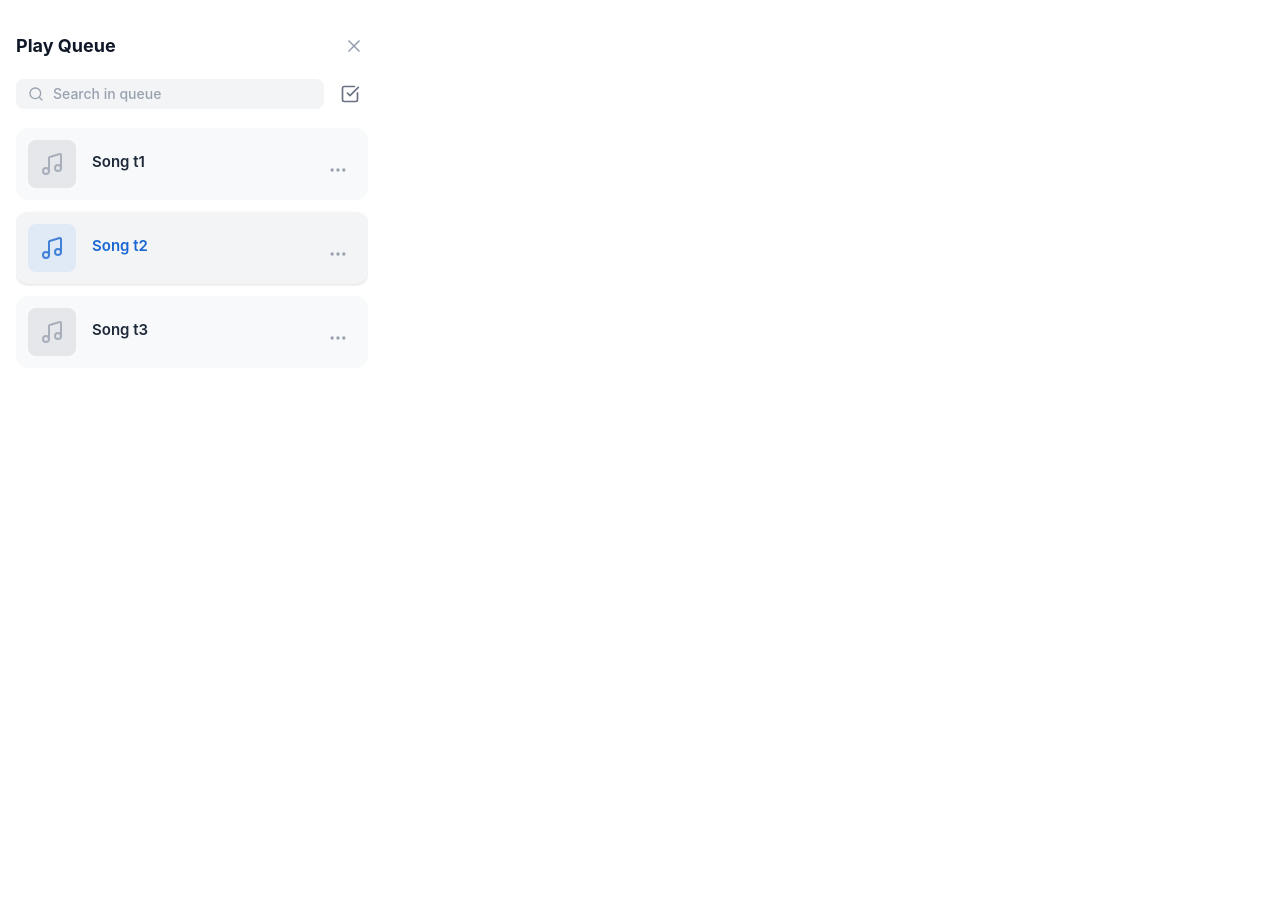
QueuePanel content › Escape khi DownloadDialog mở trên drawer → chỉ dialog đóng, drawer giữ nguyên (QP-3)
The width and height of the screenshot is (1280, 900).
Check: the text "Song t1" is shown, box [16,128,368,212]
Step 1. Click the button named "More actions" in the row of "Song t1" → (338, 170), box [320,152,356,188]
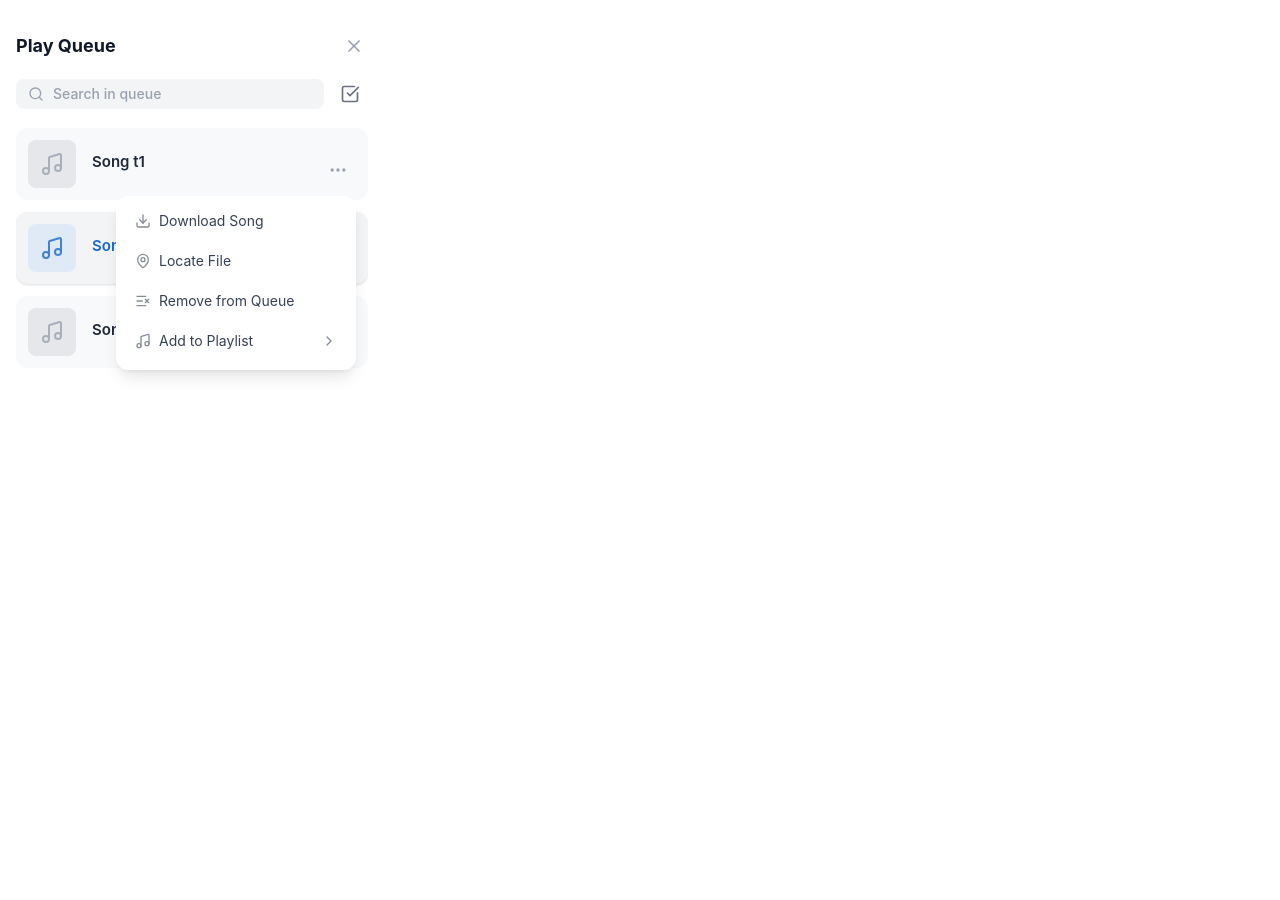
Step 2. Click the menu item "Download Song" → (236, 221), box [123,203,349,239]
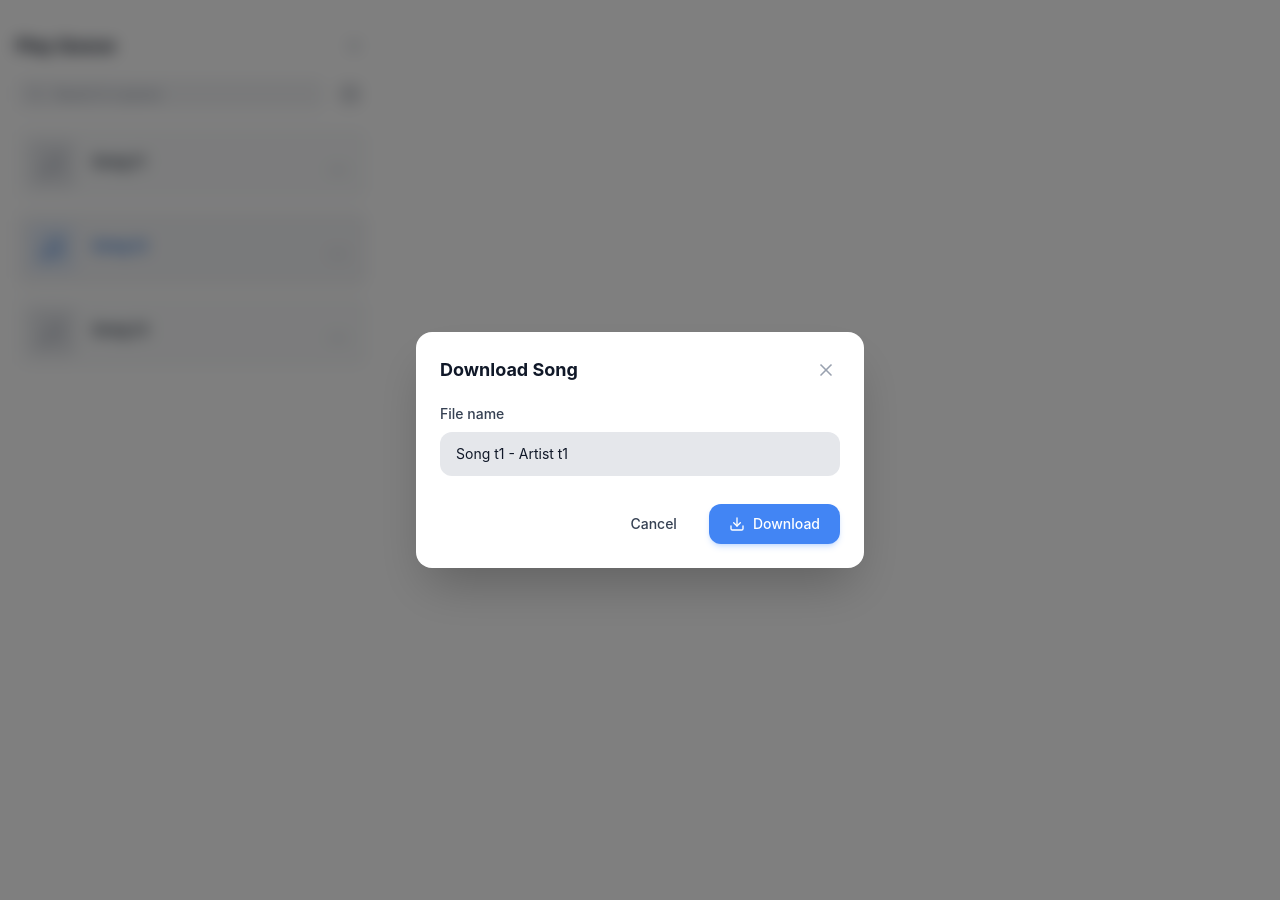
Check: the heading "Download Song" is shown
Step 3. Press Escape in the heading "Download Song", box [440,356,578,384]
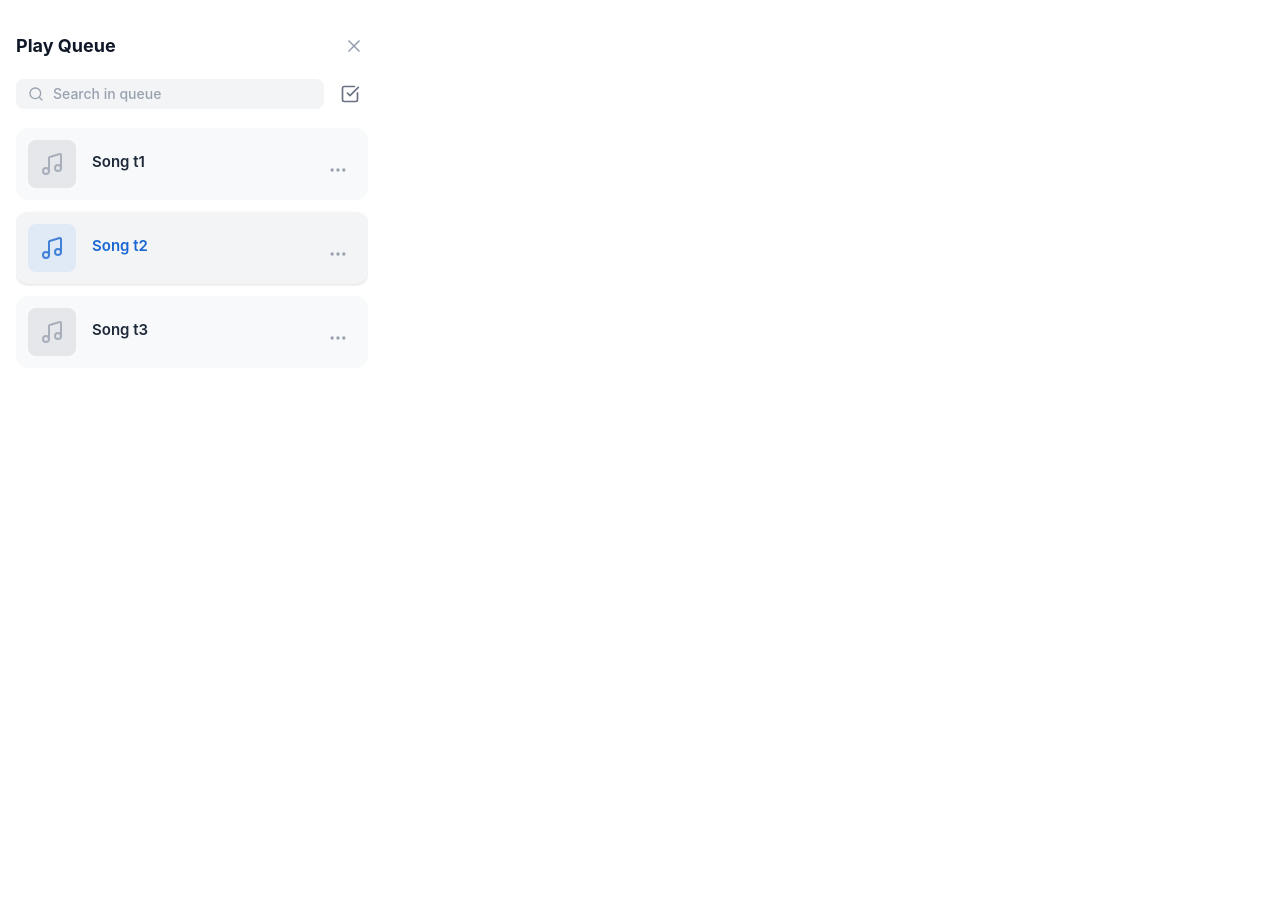
Check: the heading "Download Song" is gone
